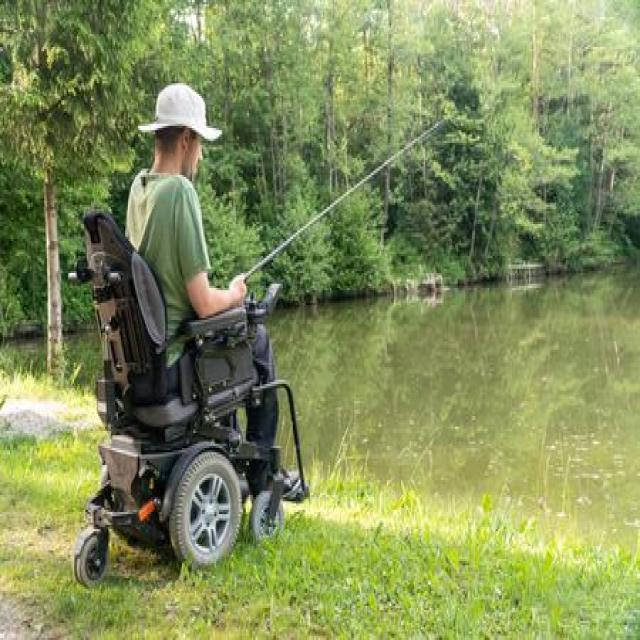wheelchairs: (52, 201, 321, 587)
